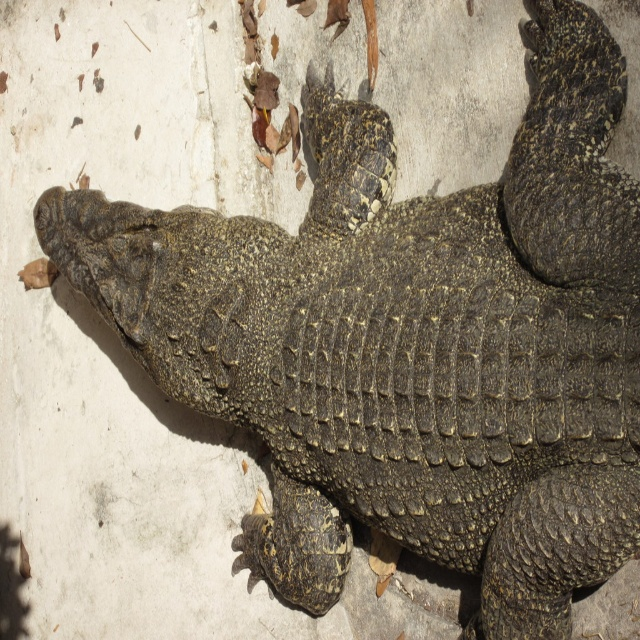Crocodile: (32, 3, 640, 639)
